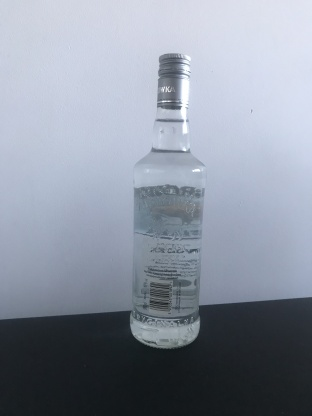nakretka: (156, 50, 191, 109)
